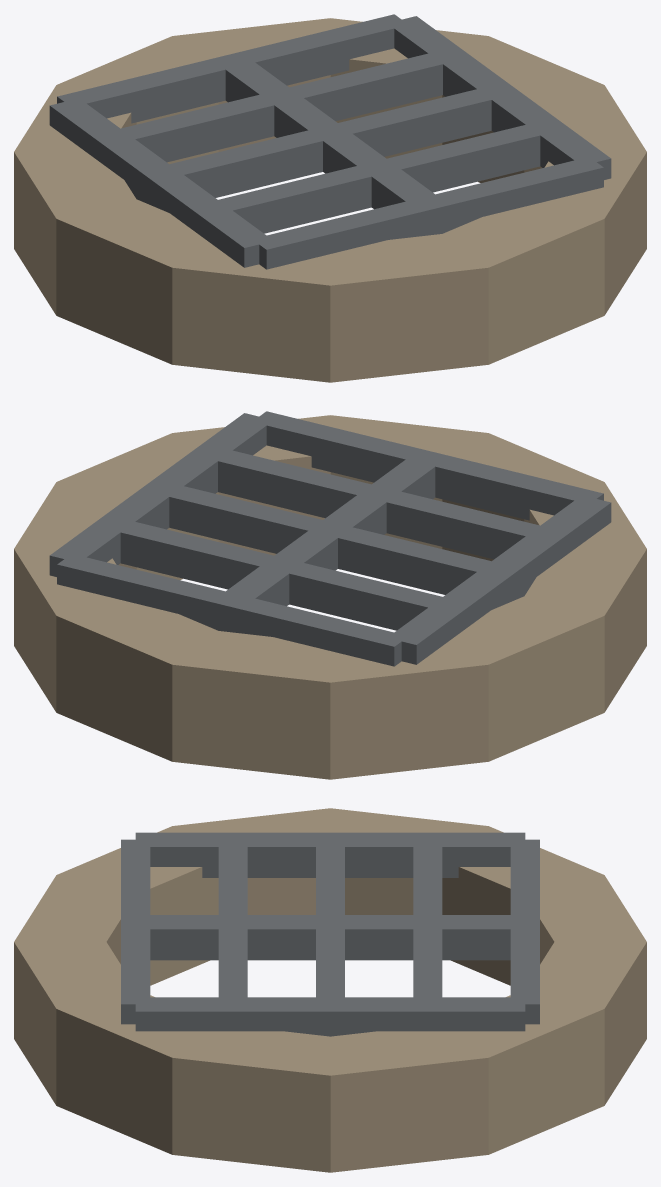
File: Access__Manhole.fbx
3 views of the same model, one above another, from view 1: azimuth 30°, elevation 25°; view 2: azimuth 150°, elevation 25°; view 3: azimuth 270°, elevation 25° (orthographic).
Visible parts, largest first — view 1: Access__Manhole; view 2: Access__Manhole; view 3: Access__Manhole.
Boxes of the visible parts, bbox=[...] form: Access__Manhole: bbox=[14, 14, 646, 382]; Access__Manhole: bbox=[14, 411, 646, 779]; Access__Manhole: bbox=[14, 808, 646, 1172].
Bounding box in the file's own units: 130 × 26.5 × 130.
1 material, 1 textured.
